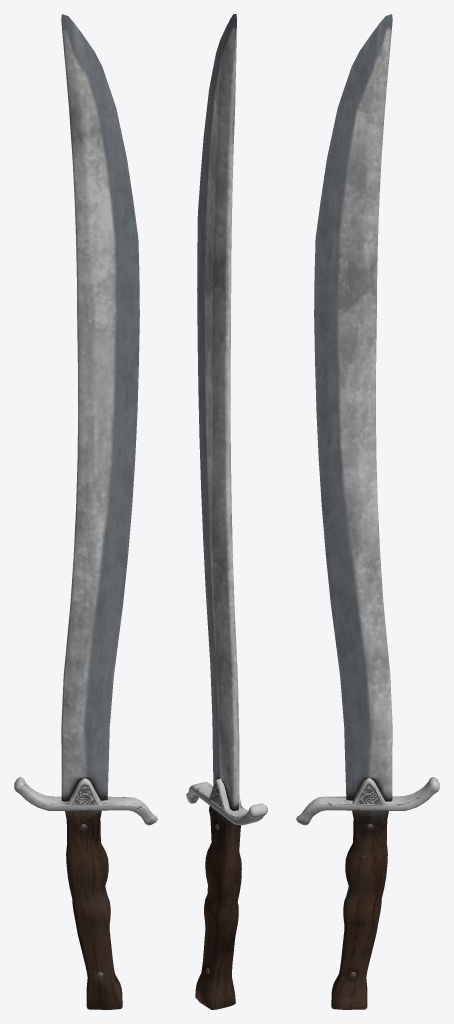
Rendered from wooden_handle_saber.glb.
The picture shows the model from 3 angles, left to right: view 1: azimuth 90°, elevation 25°; view 2: azimuth 210°, elevation 25°; view 3: azimuth 270°, elevation 25°; orthographic projection.
Parts seen in each view (by area): view 1: wooden_handle_saber; view 2: wooden_handle_saber; view 3: wooden_handle_saber.
Part boxes in pixels (x1,y1,x2,y2): wooden_handle_saber: (14, 14, 157, 1009); wooden_handle_saber: (186, 14, 267, 1009); wooden_handle_saber: (296, 14, 439, 1009).
Size of the model in its own units: 0.0257 by 0.9355 by 0.1228.
1 material, 1 textured.
